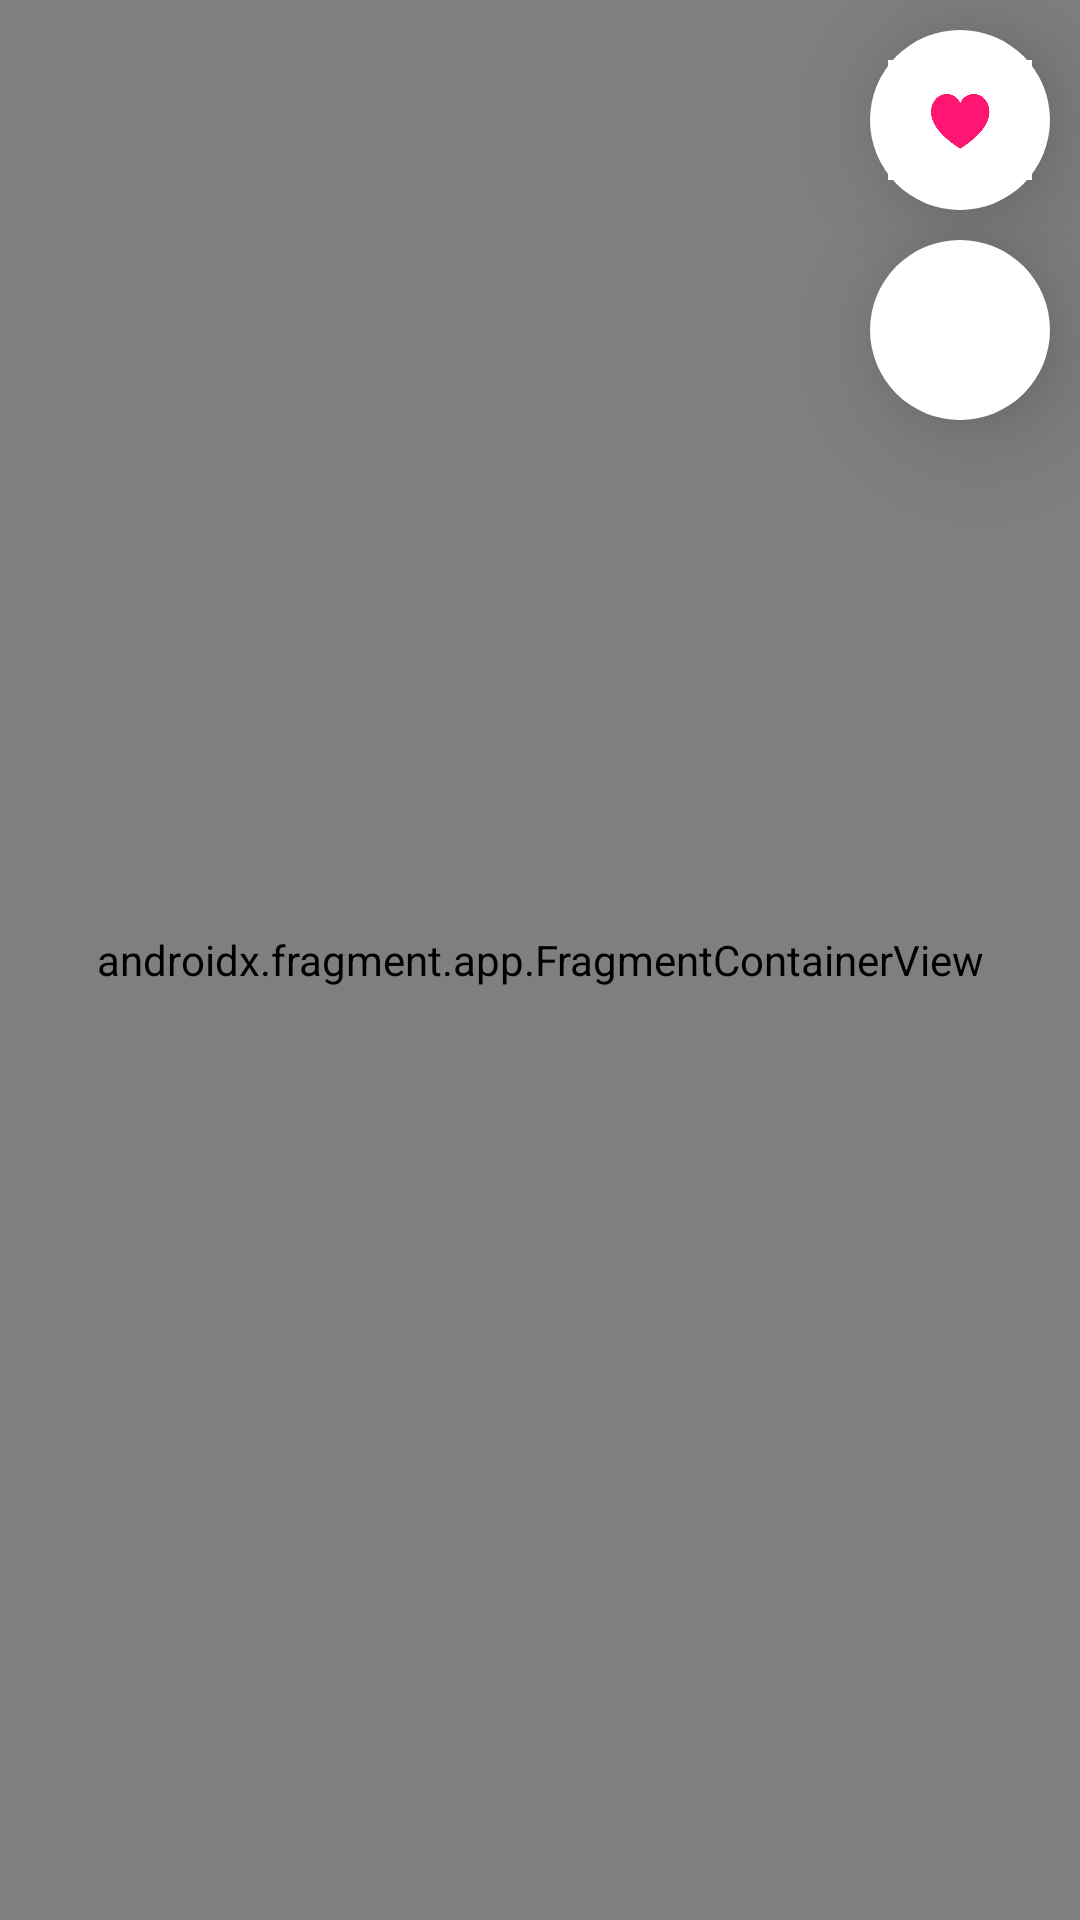

Named icons in this screenshot (1080px x 1920px) and their bounding boxes, (x1, y1, x2, y2):
like: (870, 30, 1050, 210)
